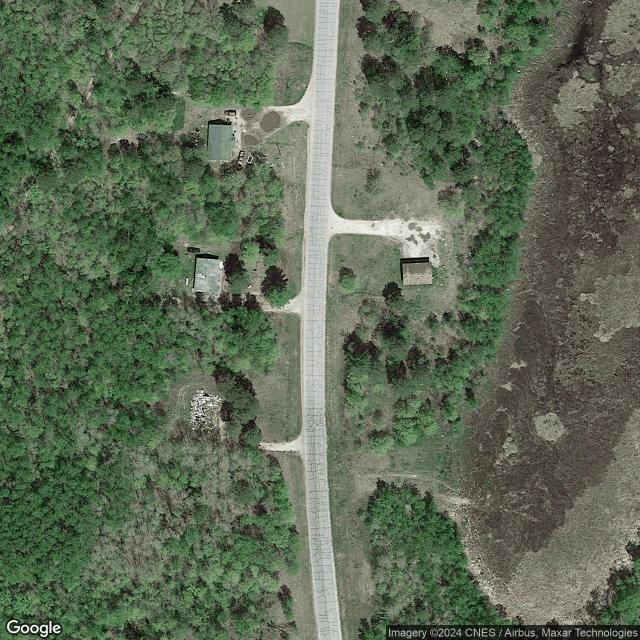Propane: (184, 276, 189, 286)
